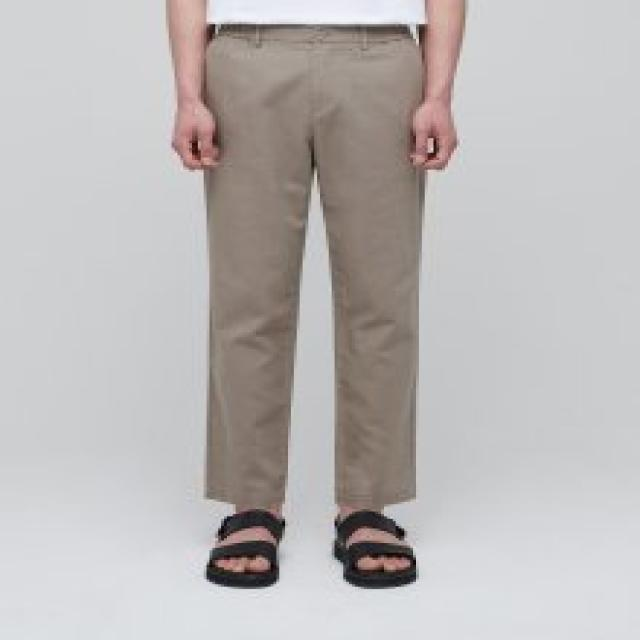long-pants: (205, 26, 422, 508)
